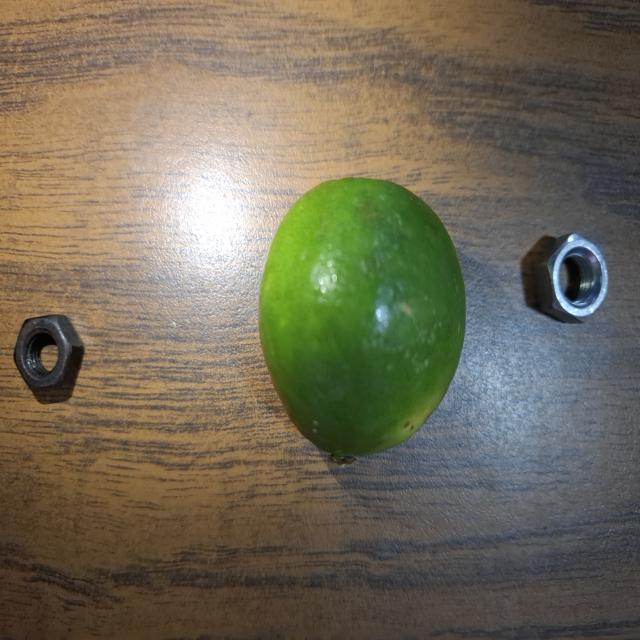limon: (256, 176, 472, 472)
milimetrico: (12, 313, 98, 400)
tuerca: (534, 227, 610, 331)
